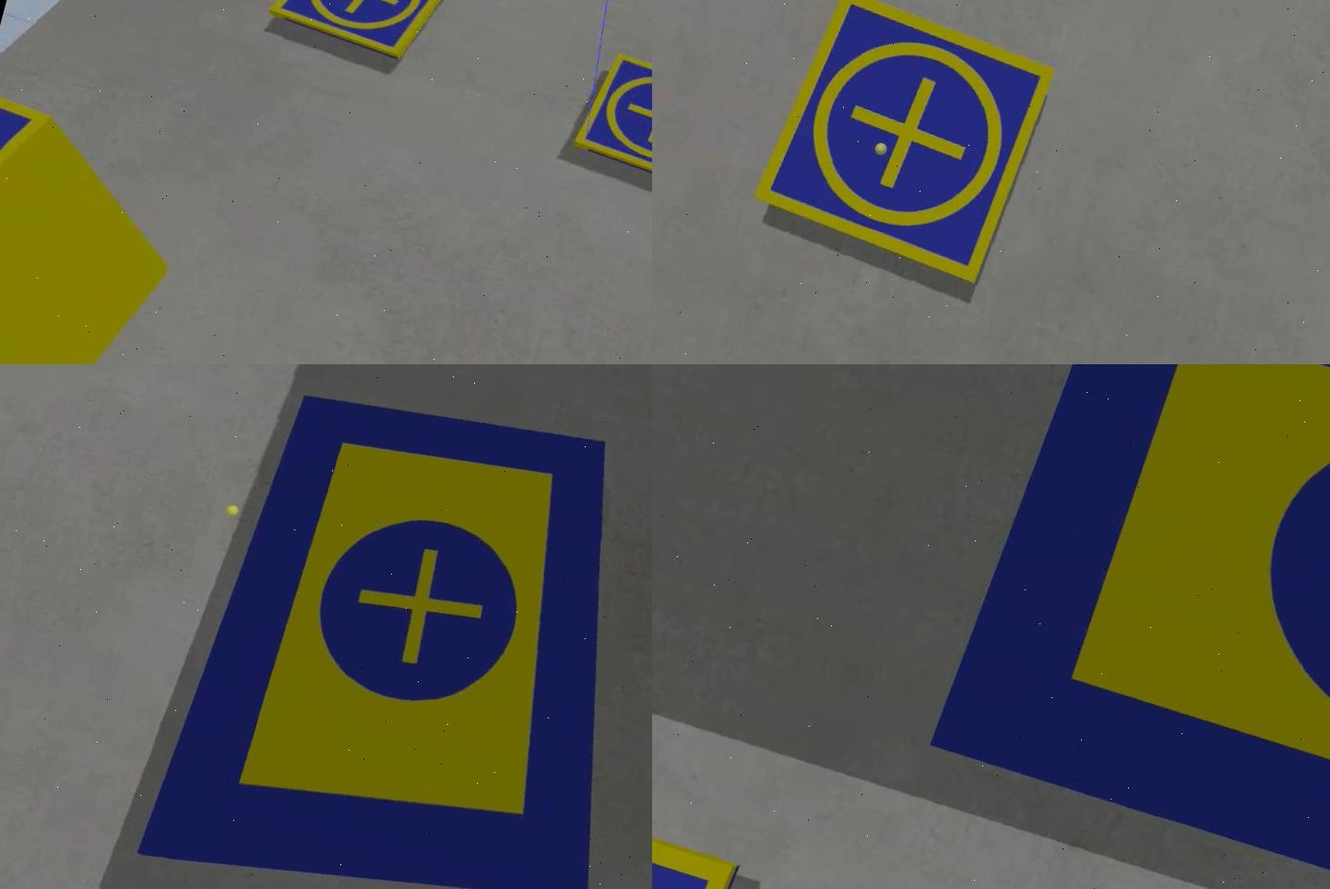large_base: (133, 365, 651, 889), (915, 365, 1328, 889)
small_base: (739, 1, 1061, 297), (265, 1, 455, 73), (564, 48, 651, 196), (651, 779, 742, 889), (0, 89, 52, 229)
